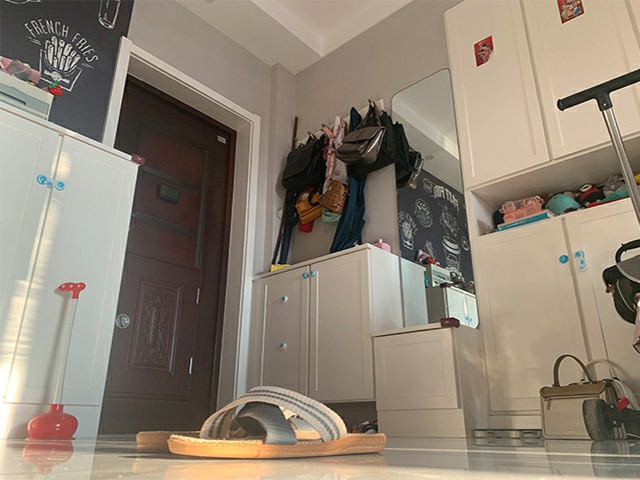cabinet: (443, 1, 640, 444), (1, 101, 143, 445), (371, 317, 483, 439)
slippers: (135, 385, 387, 459)
